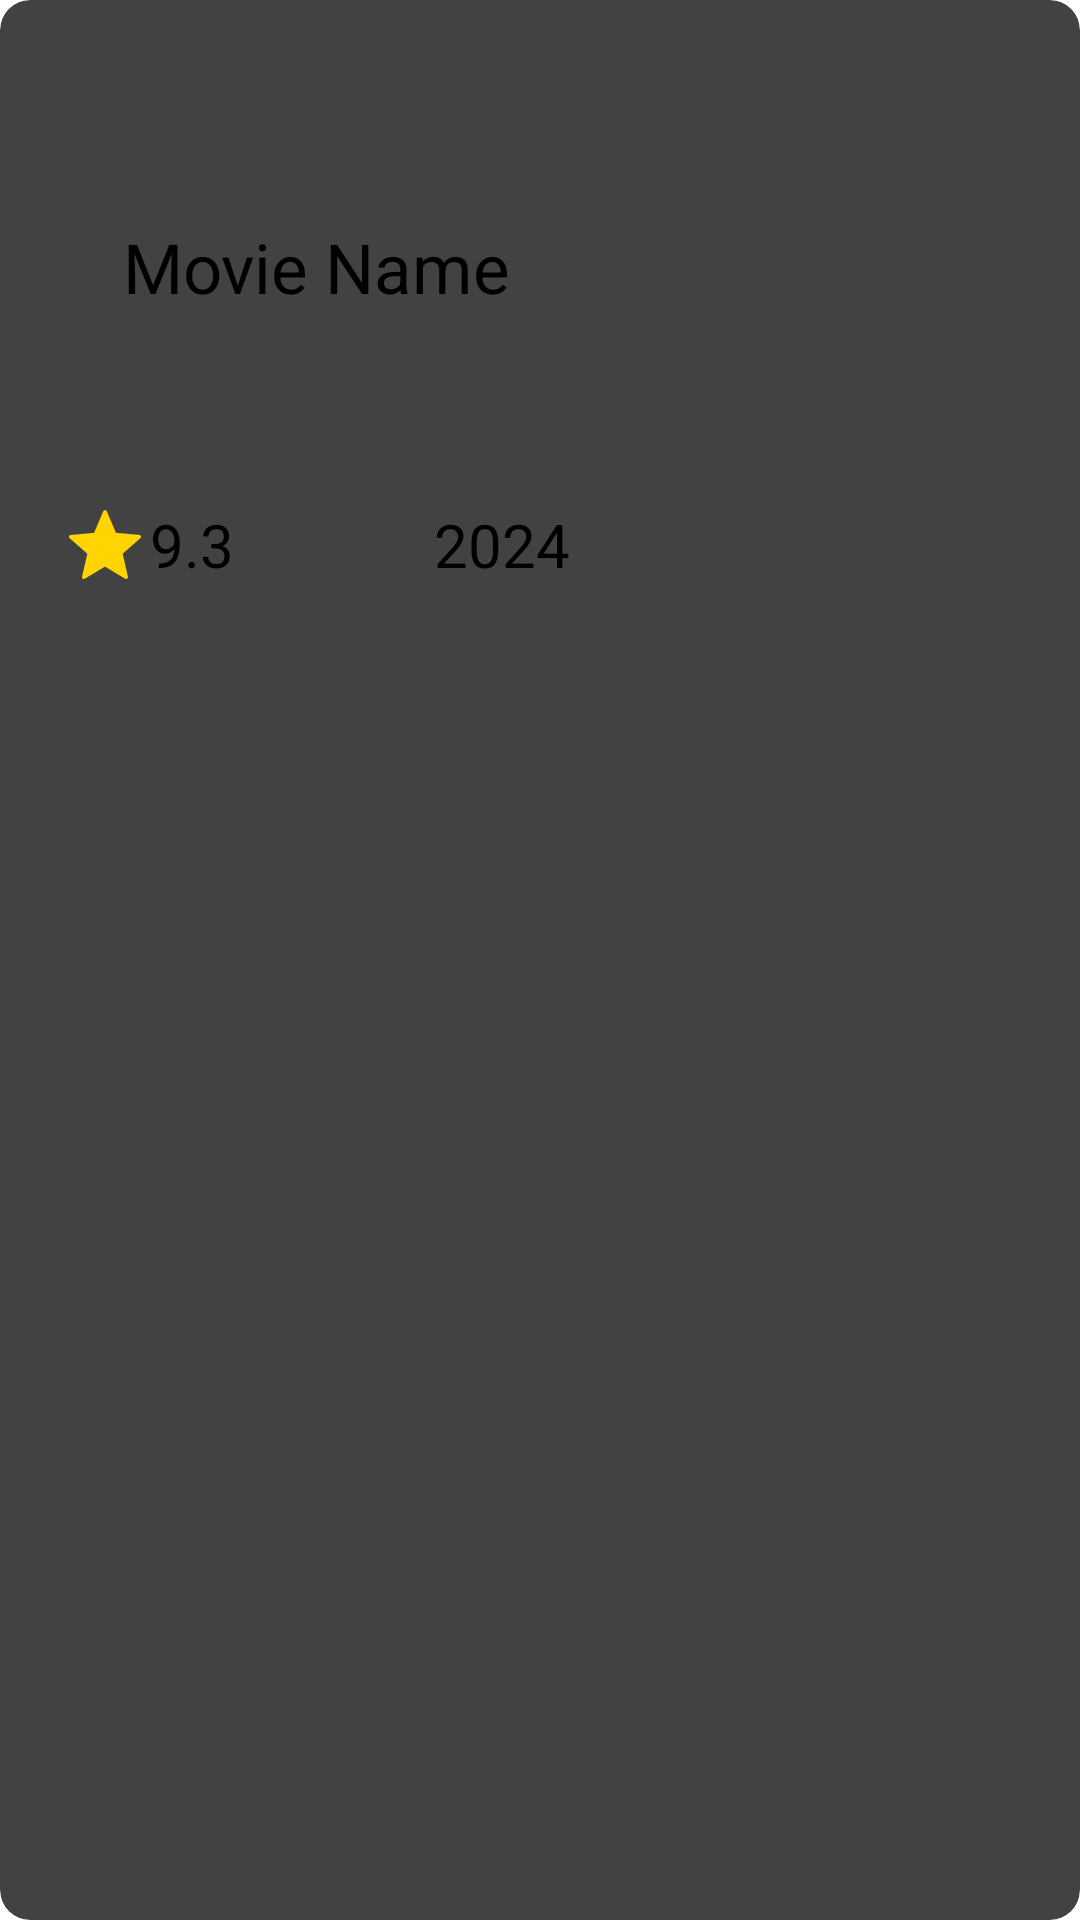

Where icons sit on this 1080px×1920px app screen, as (x1, y1, x2, y2):
star: (69, 510, 141, 579)
